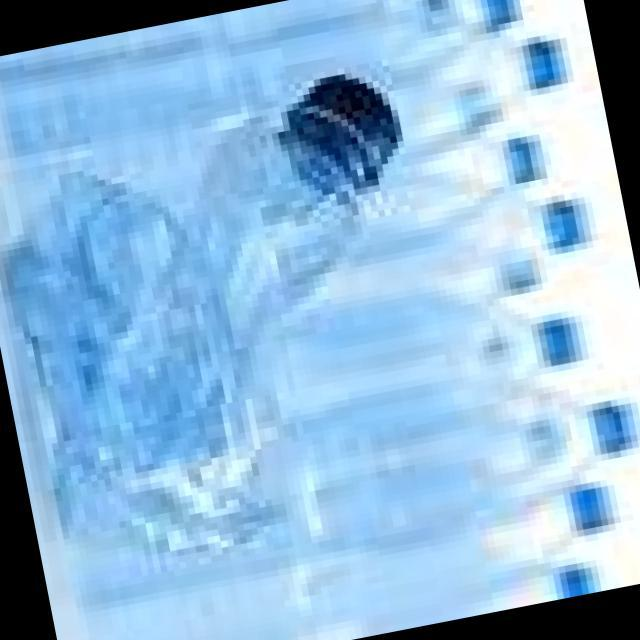defected: (0, 60, 477, 612)
